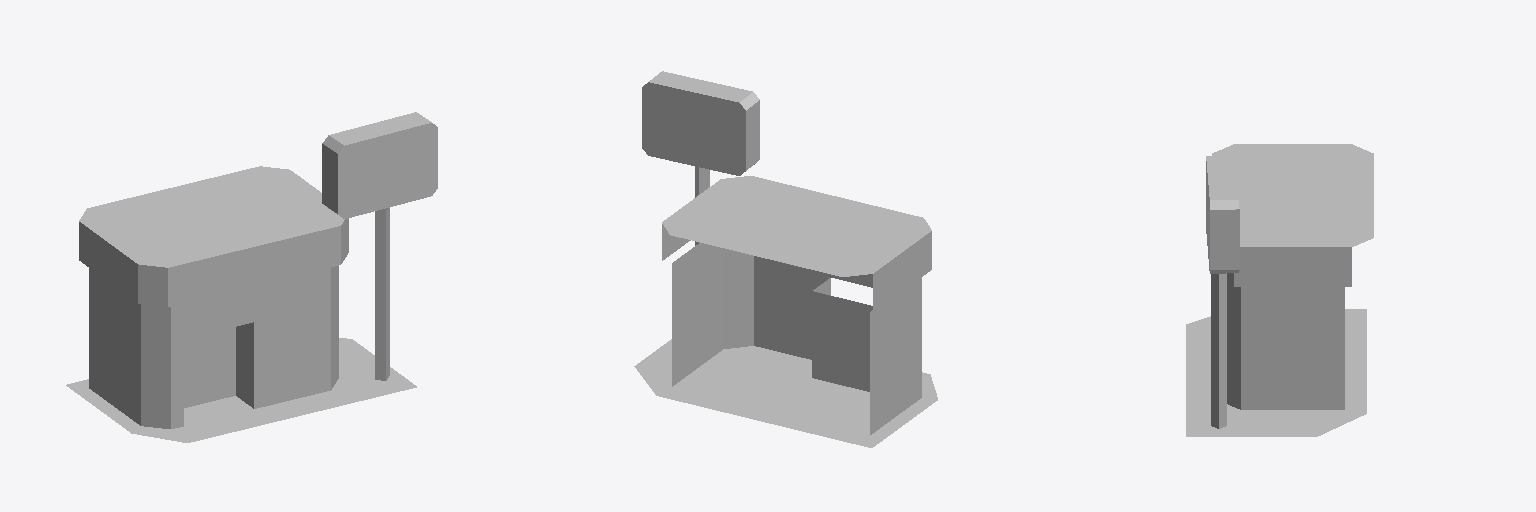
The model's file is Poké Mart.obj.
The picture shows the model from 3 angles: view 1: azimuth 30°, elevation 25°; view 2: azimuth 150°, elevation 25°; view 3: azimuth 270°, elevation 25°; orthographic projection.
Visible parts, largest first — view 1: polygon3, polygon1, polygon4, polygon2, polygon5, polygon0; view 2: polygon3, polygon2, polygon4, polygon5, polygon0; view 3: polygon3, polygon2, polygon5.
Part boxes in pixels (left/top/right/bottom): polygon3: left=79, top=166, right=389, bottom=428; polygon1: left=138, top=218, right=348, bottom=306; polygon4: left=338, top=123, right=437, bottom=218; polygon2: left=66, top=338, right=416, bottom=442; polygon5: left=322, top=112, right=431, bottom=216; polygon0: left=267, top=307, right=317, bottom=365; polygon3: left=662, top=166, right=931, bottom=434; polygon2: left=634, top=339, right=937, bottom=447; polygon4: left=642, top=82, right=745, bottom=175; polygon5: left=649, top=71, right=759, bottom=170; polygon0: left=767, top=262, right=817, bottom=319; polygon3: left=1211, top=144, right=1373, bottom=428; polygon2: left=1186, top=309, right=1366, bottom=436; polygon5: left=1206, top=156, right=1239, bottom=273.
Size of the model in its own units: 92.13 by 74.5 by 51.